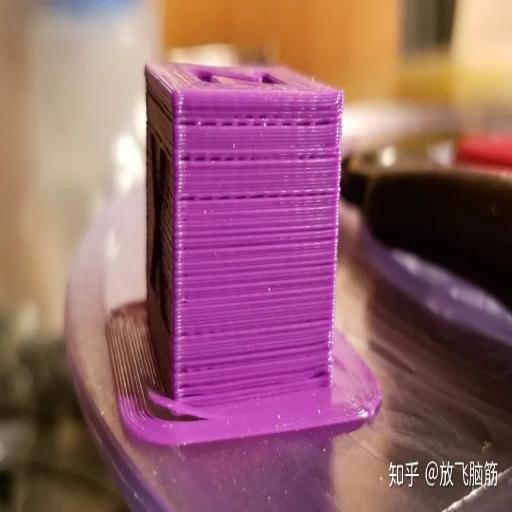cracks: (177, 141, 275, 211), (137, 368, 221, 433)
